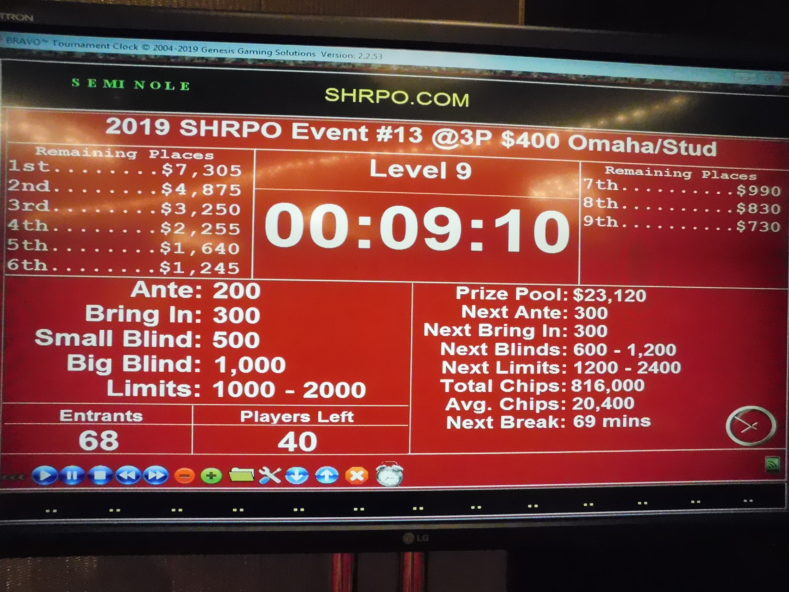PlayersLeft: (189, 401, 413, 456)
Remaining: (5, 142, 256, 281), (577, 159, 789, 292)
TournamentClock: (1, 110, 789, 453)
